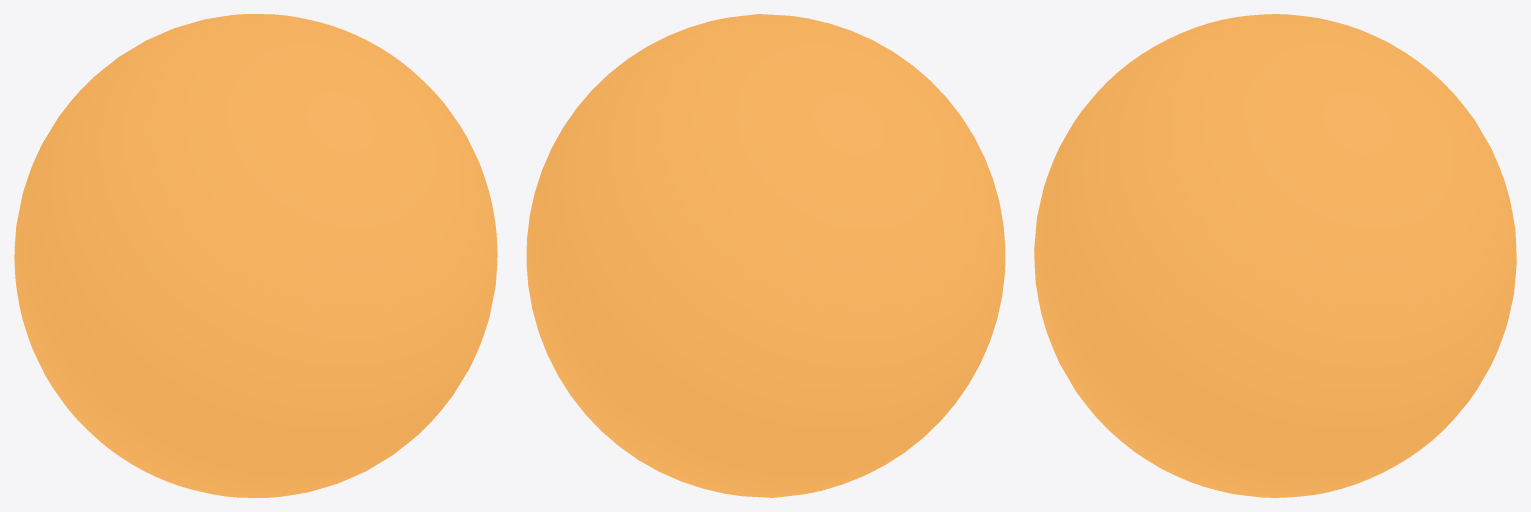
The model's file is earth.glb.
3 renders of one model, left to right at view 1: azimuth 30°, elevation 25°; view 2: azimuth 150°, elevation 25°; view 3: azimuth 270°, elevation 25°, orthographic.
Visible parts, largest first — view 1: earth; view 2: earth; view 3: earth.
Boxes of the visible parts, x1=… form: earth: x1=14, y1=14, x2=497, y2=497; earth: x1=526, y1=14, x2=1005, y2=497; earth: x1=1034, y1=14, x2=1516, y2=497.
Size of the model in its own units: 19.73 by 19.83 by 19.76.
